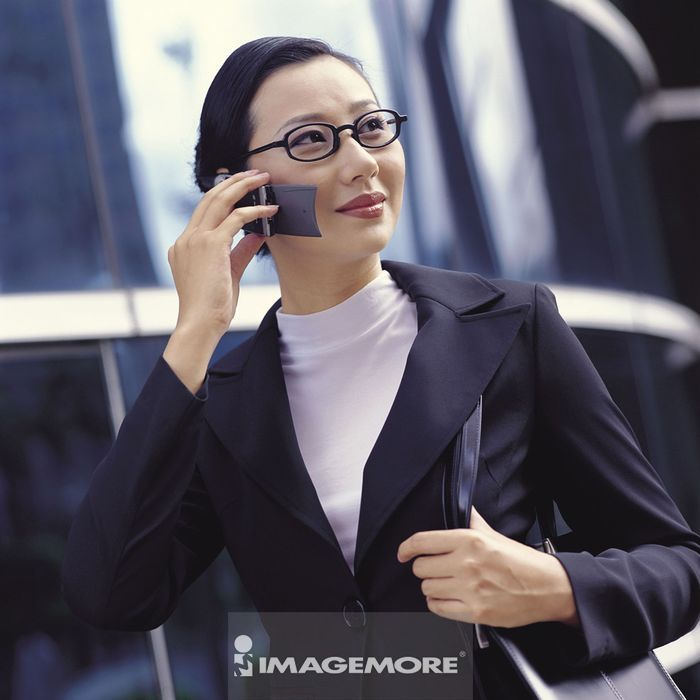talk: (165, 94, 406, 343)
